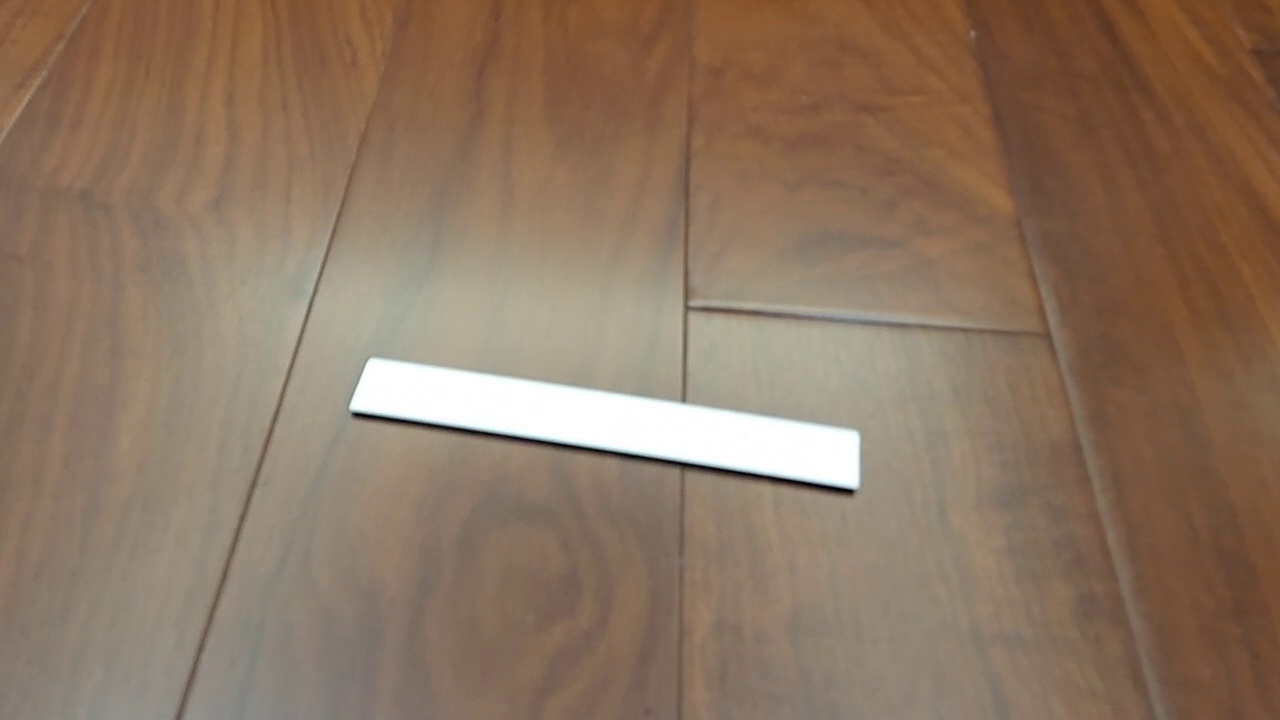ruler: (348, 355, 861, 494)
